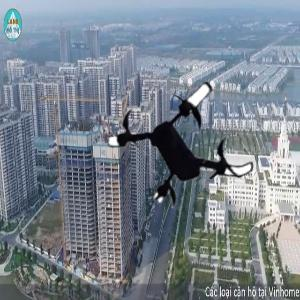drone: (111, 67, 262, 218)
